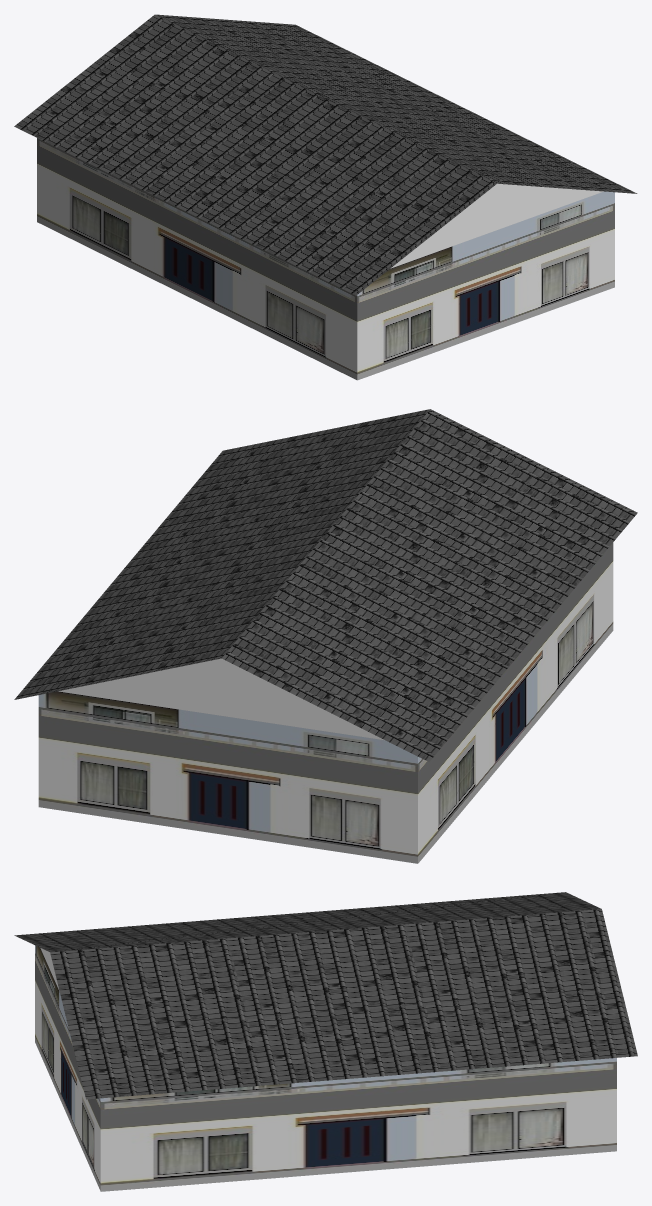
The picture shows the model from 3 angles, top to bottom: view 1: azimuth 30°, elevation 25°; view 2: azimuth 150°, elevation 25°; view 3: azimuth 270°, elevation 25°; orthographic projection. The views are drawn at different scales.
Visible parts, largest first — view 1: CityEngineMaterial_8_m, CityEngineMaterial_7_m, CityEngineMaterial_3_m; view 2: CityEngineMaterial_8_m, CityEngineMaterial_7_m, CityEngineMaterial_3_m; view 3: CityEngineMaterial_8_m, CityEngineMaterial_7_m.
Part boxes in pixels (x1,y1,x2,y2): CityEngineMaterial_8_m: [14, 14, 637, 295]; CityEngineMaterial_7_m: [37, 138, 614, 380]; CityEngineMaterial_3_m: [391, 183, 603, 268]; CityEngineMaterial_8_m: [14, 409, 637, 761]; CityEngineMaterial_7_m: [38, 542, 613, 863]; CityEngineMaterial_3_m: [58, 658, 384, 740]; CityEngineMaterial_8_m: [14, 892, 637, 1099]; CityEngineMaterial_7_m: [35, 945, 616, 1191].
Bounding box in the file's own units: 27.14 × 10.13 × 34.51.
